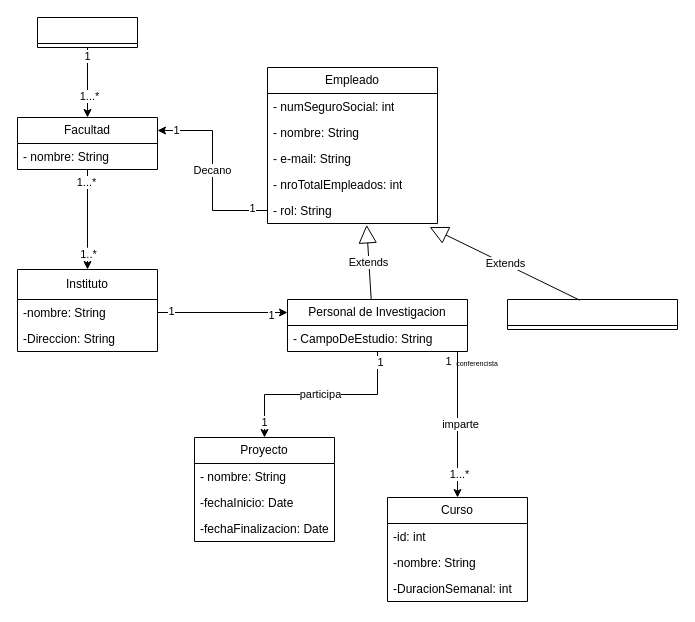
This 695x622 diagram has some shape labels left out. Here are the shapes that lost their labels. From the top down, the centre of each, then its label:
At (x=87, y=32): "Universidad".
At (x=592, y=314): "Personal Administrativo".
